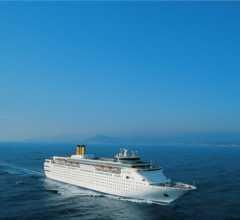youlun: (40, 138, 196, 205)
